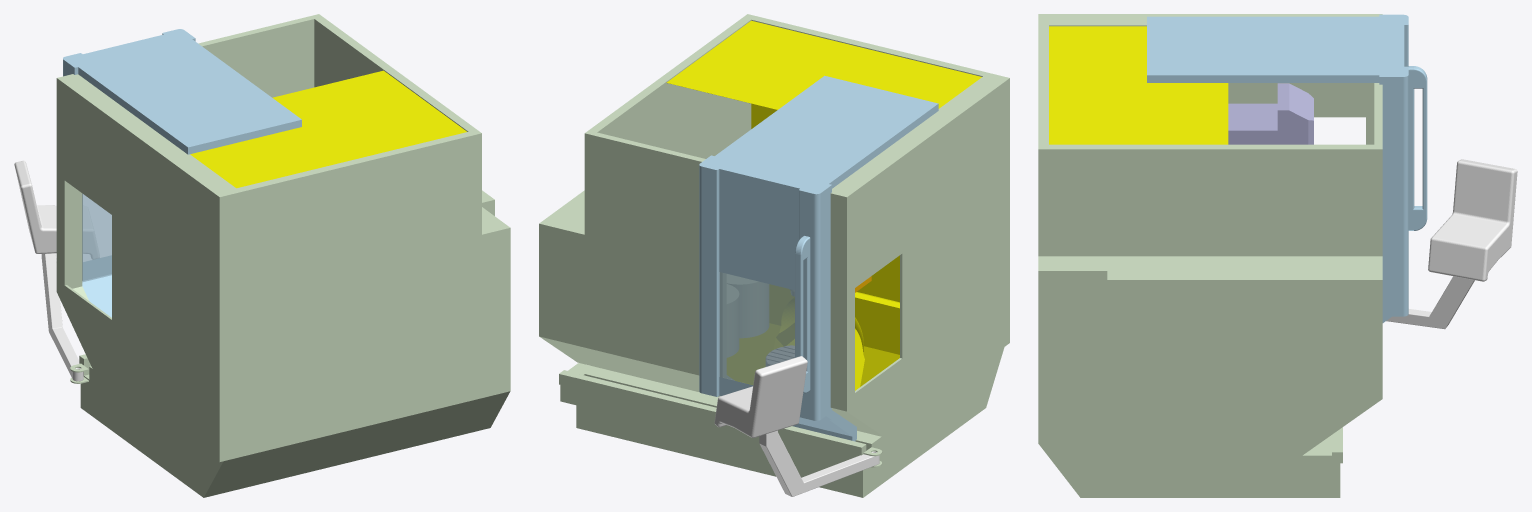
File: DMU.fbx
3 views of the same model, side by side, from view 1: azimuth 30°, elevation 25°; view 2: azimuth 150°, elevation 25°; view 3: azimuth 270°, elevation 25° (orthographic). The views are drawn at different scales.
Parts seen in each view (by area): view 1: Main, Door, Terminal, Arm; view 2: Main, Door, Terminal, Arm; view 3: Main, Door, Terminal, Milling, Arm.
Boxes of the visible parts, x1,y1,x2,y2 form: Main: (56,14,510,497); Door: (63,29,301,317); Terminal: (14,160,99,259); Arm: (41,253,83,381); Main: (539,14,1009,497); Door: (699,75,938,441); Terminal: (714,356,807,437); Arm: (759,430,879,496); Main: (1038,14,1382,497); Door: (1147,14,1427,322); Terminal: (1428,159,1517,281); Milling: (1228,83,1313,144); Arm: (1386,276,1474,329).
Bounding box in the file's own units: 279 × 271 × 344.
